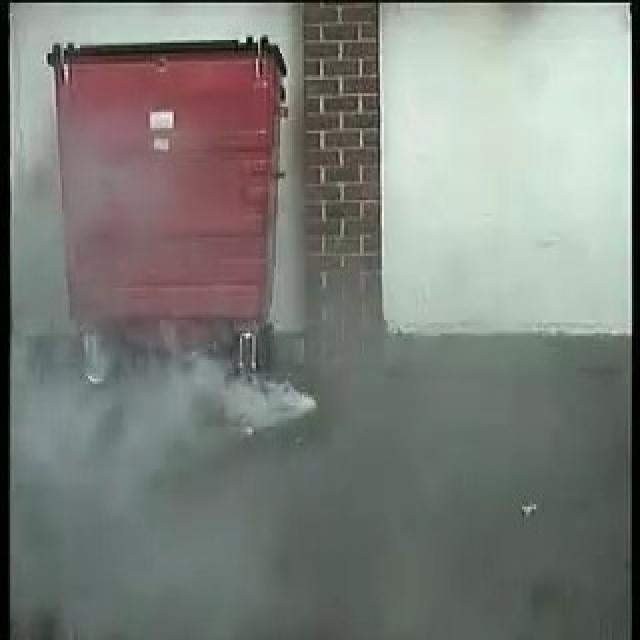smoke: (134, 341, 314, 425)
